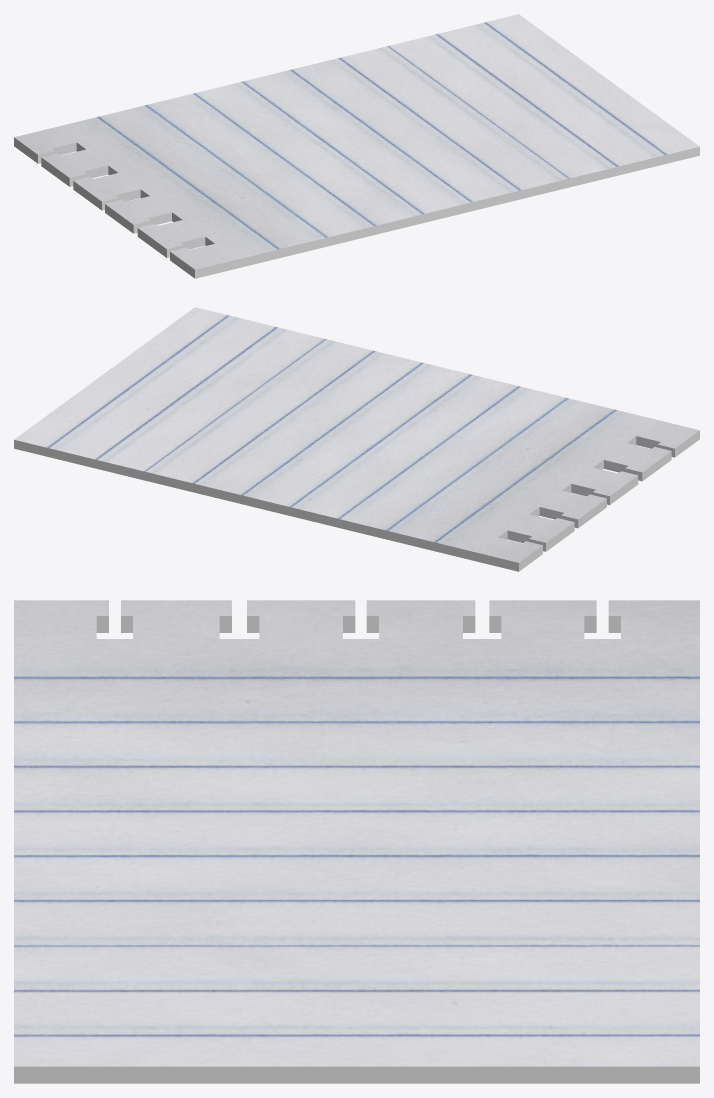
Rendered from Zettel.fbx.
3 views of the same model, one above another, from view 1: azimuth 30°, elevation 25°; view 2: azimuth 150°, elevation 25°; view 3: azimuth 270°, elevation 25° (orthographic). The views are drawn at different scales.
Visible parts, largest first — view 1: pCube1; view 2: pCube1; view 3: pCube1.
Part boxes in pixels (<box>): pCube1: <box>14,14,699,278</box>; pCube1: <box>14,307,699,571</box>; pCube1: <box>14,600,699,1083</box>.
Bounding box in the file's own units: 2.64 × 0.0446 × 1.64.
1 material, 1 textured.
